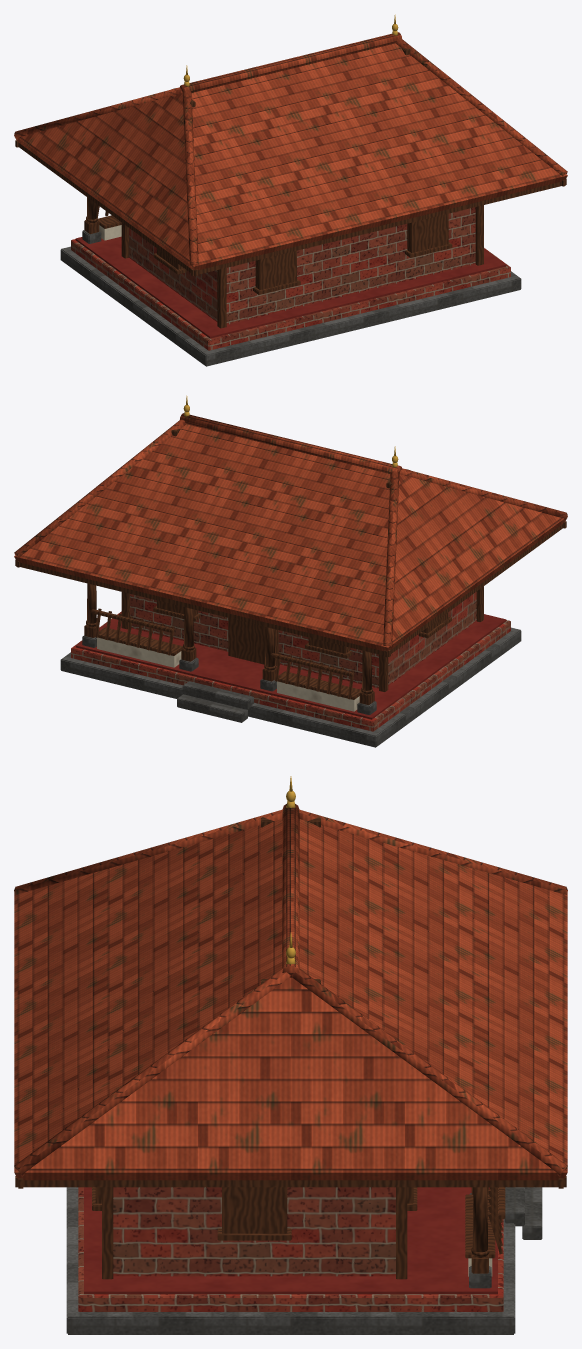
Rendered from artisan_veedu.glb.
3 renders of one model, top to bottom at view 1: azimuth 30°, elevation 25°; view 2: azimuth 150°, elevation 25°; view 3: azimuth 270°, elevation 25°, orthographic. The views are drawn at different scales.
Visible parts, largest first — view 1: artisan_veedu; view 2: artisan_veedu; view 3: artisan_veedu.
Boxes of the visible parts, x1,y1,x2,y2 form: artisan_veedu: (14, 14, 567, 366); artisan_veedu: (14, 395, 567, 747); artisan_veedu: (14, 776, 567, 1334).
Bounding box in the file's own units: 10.69 × 6.38 × 8.83.
Materials: 8 (8 with a texture image).
